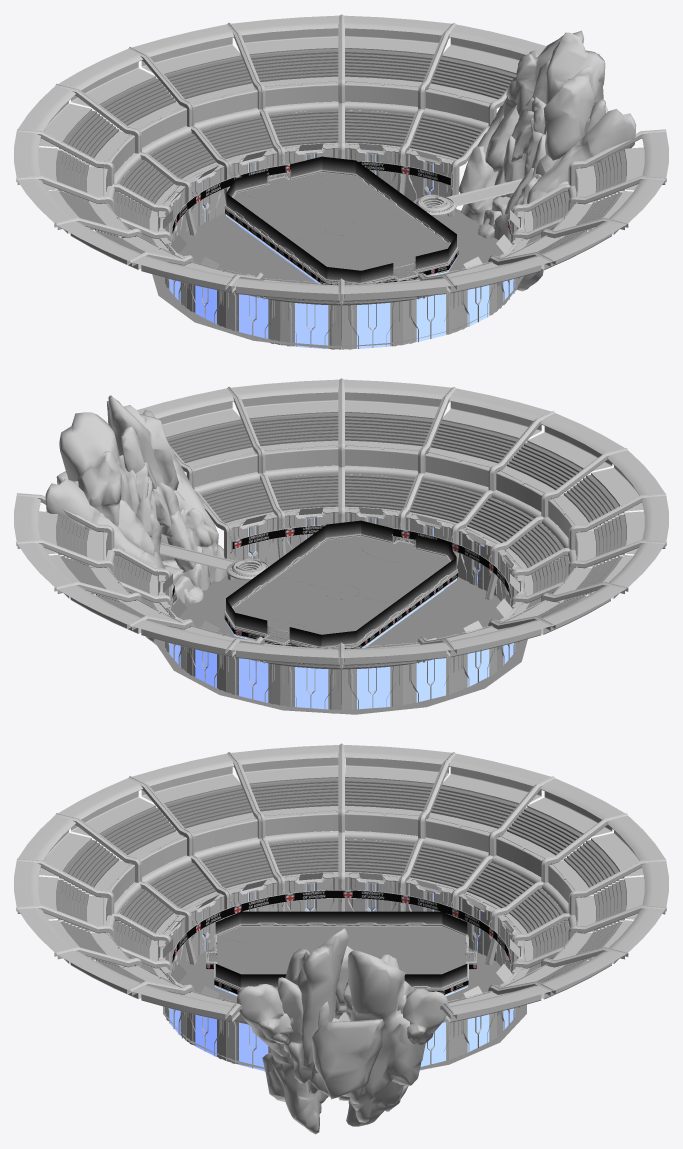
The model's file is stadium_01.FBX.
3 renders of one model, top to bottom at view 1: azimuth 30°, elevation 25°; view 2: azimuth 150°, elevation 25°; view 3: azimuth 270°, elevation 25°, orthographic.
Visible parts, largest first — view 1: wall_panel_01, bleachers_01, ramp_border_01, main_wall_01, rock_formation_02, field_main, glowy_beams, rock_small, field_glow, metal_tile_01, publicity_01, main_wall_glow_01 (+3 smaller); view 2: wall_panel_01, bleachers_01, ramp_border_01, main_wall_01, field_main, rock_formation_02, glowy_beams, rock_small, field_glow, metal_tile_01, publicity_01, main_wall_glow_01 (+3 smaller); view 3: wall_panel_01, bleachers_01, rock_formation_02, ramp_border_01, main_wall_01, field_main, rock_small, field_glow, glowy_beams, publicity_01, metal_tile_01, main_wall_glow_01 (+1 smaller).
Boxes of the visible parts, x1,y1,x2,y2 form: wall_panel_01: (14,15,668,304); bleachers_01: (56,48,626,348); ramp_border_01: (16,14,666,340); main_wall_01: (158,145,524,349); rock_formation_02: (458,30,636,291); field_main: (233,172,449,278); glowy_beams: (169,153,514,349); rock_small: (478,60,608,240); field_glow: (226,156,456,282); metal_tile_01: (103,81,579,302); publicity_01: (172,161,510,284); main_wall_glow_01: (163,143,519,279); wall_panel_01: (14,379,668,668); bleachers_01: (56,412,626,714); ramp_border_01: (16,378,666,704); main_wall_01: (158,509,524,713); field_main: (233,536,449,643); rock_formation_02: (45,395,225,645); glowy_beams: (169,517,514,713); rock_small: (56,426,210,603); field_glow: (226,520,456,646); metal_tile_01: (103,445,579,666); publicity_01: (172,525,510,648); main_wall_glow_01: (163,507,519,643); wall_panel_01: (14,745,668,1024); bleachers_01: (56,777,626,1069); rock_formation_02: (236,928,448,1134); ramp_border_01: (16,743,666,1047); main_wall_01: (158,874,524,1071); field_main: (207,926,475,974); rock_small: (277,946,406,1122); field_glow: (215,911,467,988); glowy_beams: (169,882,514,1070); publicity_01: (172,890,510,994); metal_tile_01: (103,810,579,1002); main_wall_glow_01: (163,873,519,998).
Bounding box in the file's own units: 18962 × 7652 × 19389.
